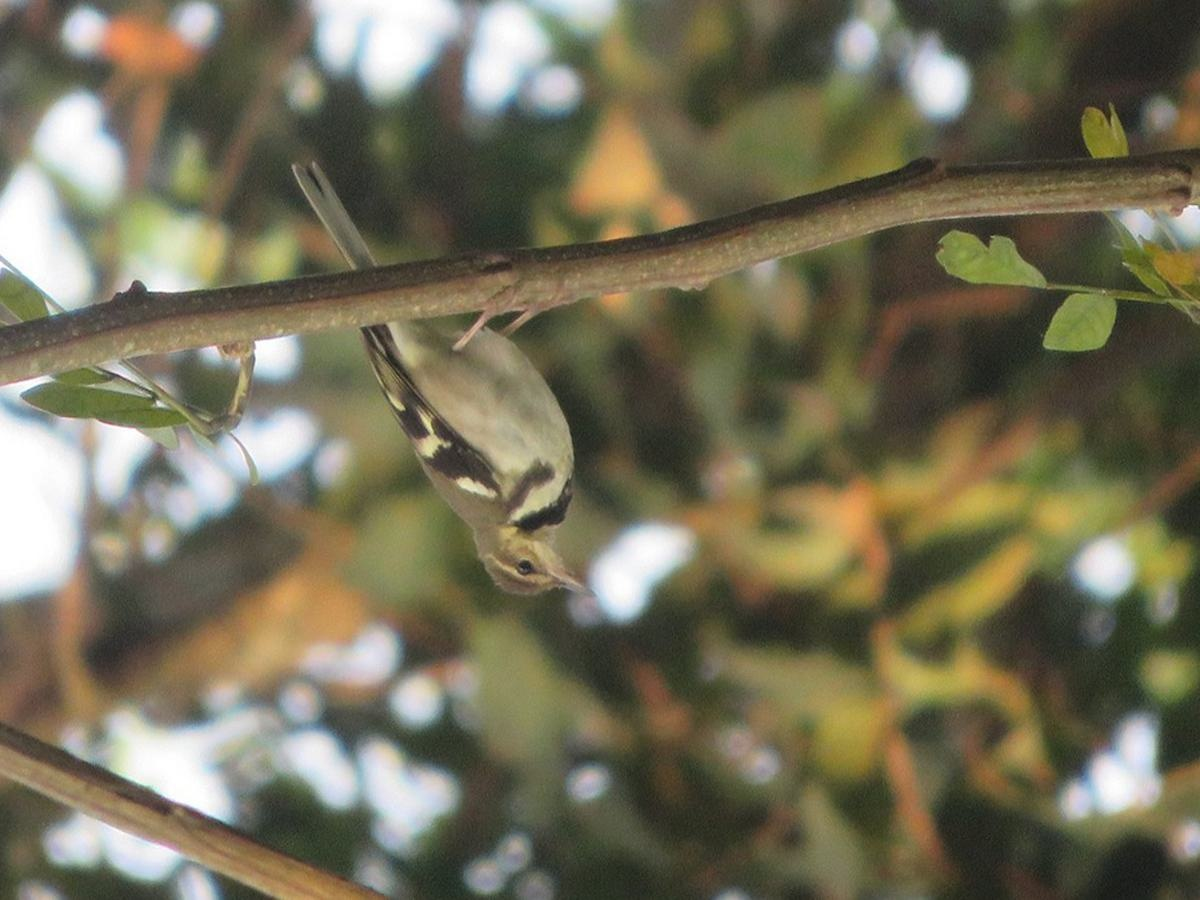wagtail: (340, 213, 616, 605)
